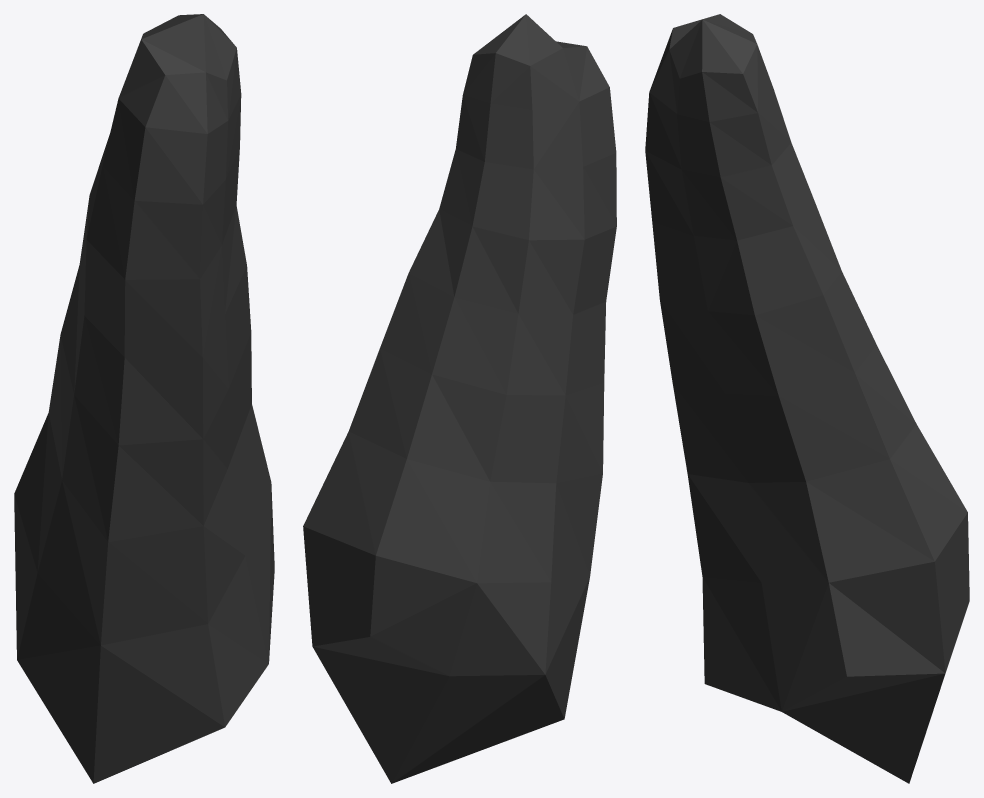
The picture shows the model from 3 angles, left to right: view 1: azimuth 30°, elevation 25°; view 2: azimuth 150°, elevation 25°; view 3: azimuth 270°, elevation 25°; orthographic projection. The views are drawn at different scales.
Visible parts, largest first — view 1: world; view 2: world; view 3: world.
Boxes of the visible parts, left/top/right/bottom form: world: left=14, top=14, right=274, bottom=783; world: left=303, top=14, right=616, bottom=783; world: left=645, top=14, right=969, bottom=783.
Bounding box in the file's own units: 0.0155 × 0.0477 × 0.0188.
Materials: 1 (1 with a texture image).
